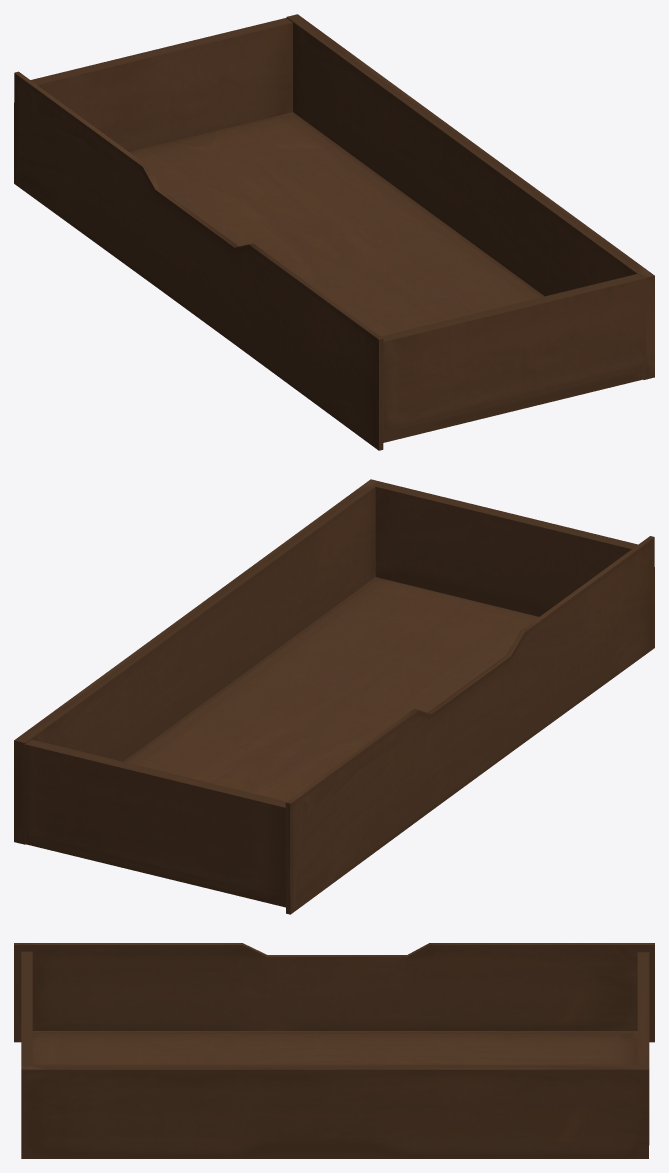
Rendered from SM_Table_A3_Cab2.fbx.
3 views of the same model, one above another, from view 1: azimuth 30°, elevation 25°; view 2: azimuth 150°, elevation 25°; view 3: azimuth 270°, elevation 25° (orthographic). The views are drawn at different scales.
Parts seen in each view (by area): view 1: SM_Table_A3_Cab2; view 2: SM_Table_A3_Cab2; view 3: SM_Table_A3_Cab2.
Boxes of the visible parts, bbox=[...] form: SM_Table_A3_Cab2: bbox=[14, 14, 654, 450]; SM_Table_A3_Cab2: bbox=[14, 479, 654, 914]; SM_Table_A3_Cab2: bbox=[14, 943, 654, 1158].
Size of the model in its own units: 31.42 by 70.85 by 11.89.
1 material, 1 textured.
